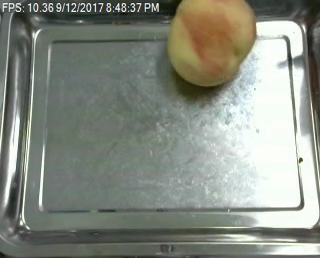Peach: (167, 0, 258, 87)
